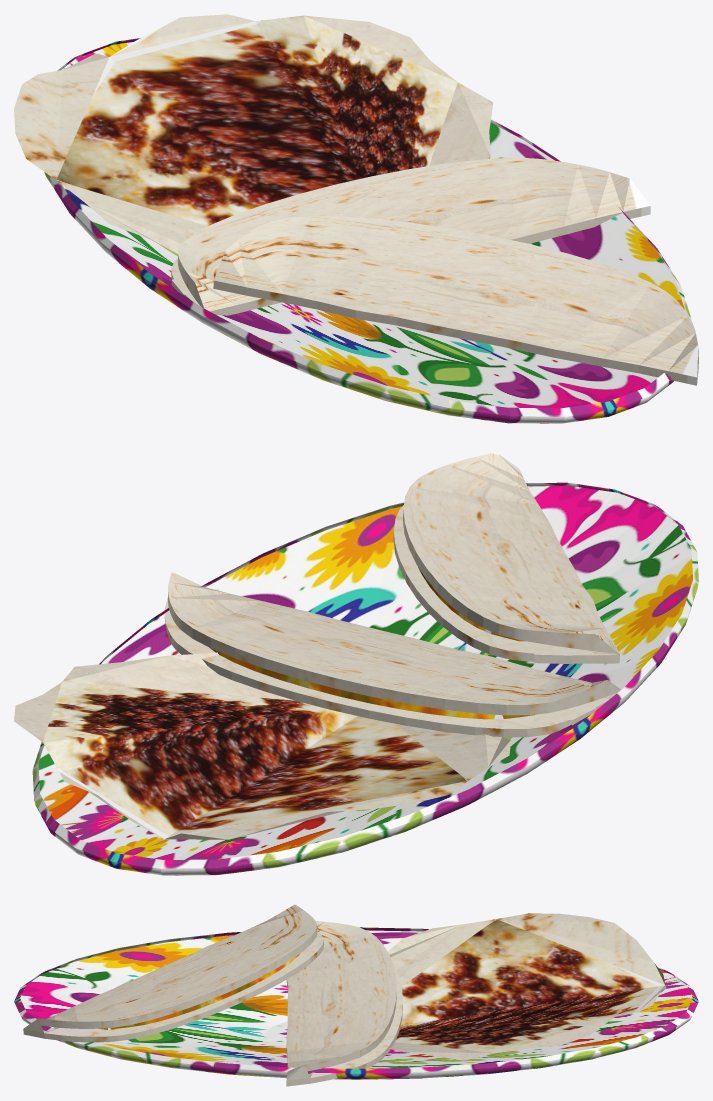
The model's file is quesadillas.obj.
3 renders of one model, top to bottom at view 1: azimuth 30°, elevation 25°; view 2: azimuth 150°, elevation 25°; view 3: azimuth 270°, elevation 25°, orthographic. The views are drawn at different scales.
Parts seen in each view (by area): view 1: Circle_Circle.002, quesadilla1.001_Circle.003, plato_Circle, quesadilla1_Circle.001; view 2: plato_Circle, Circle_Circle.002, quesadilla1_Circle.001, quesadilla1.001_Circle.003; view 3: Circle_Circle.002, plato_Circle, quesadilla1.001_Circle.003, quesadilla1_Circle.001.
Boxes of the visible parts, box(x1,y1,x2,y2) form: Circle_Circle.002: box(14, 14, 493, 253); quesadilla1.001_Circle.003: box(213, 216, 698, 385); plato_Circle: box(44, 38, 691, 423); quesadilla1_Circle.001: box(171, 158, 650, 315); plato_Circle: box(32, 482, 698, 875); Circle_Circle.002: box(14, 652, 510, 839); quesadilla1_Circle.001: box(164, 572, 621, 737); quesadilla1.001_Circle.003: box(393, 452, 619, 664); Circle_Circle.002: box(387, 913, 666, 1060); plato_Circle: box(14, 927, 698, 1079); quesadilla1.001_Circle.003: box(23, 904, 323, 1042); quesadilla1_Circle.001: box(286, 921, 402, 1086).
Bounding box in the file's own units: 7.69 × 1.85 × 14.71.
